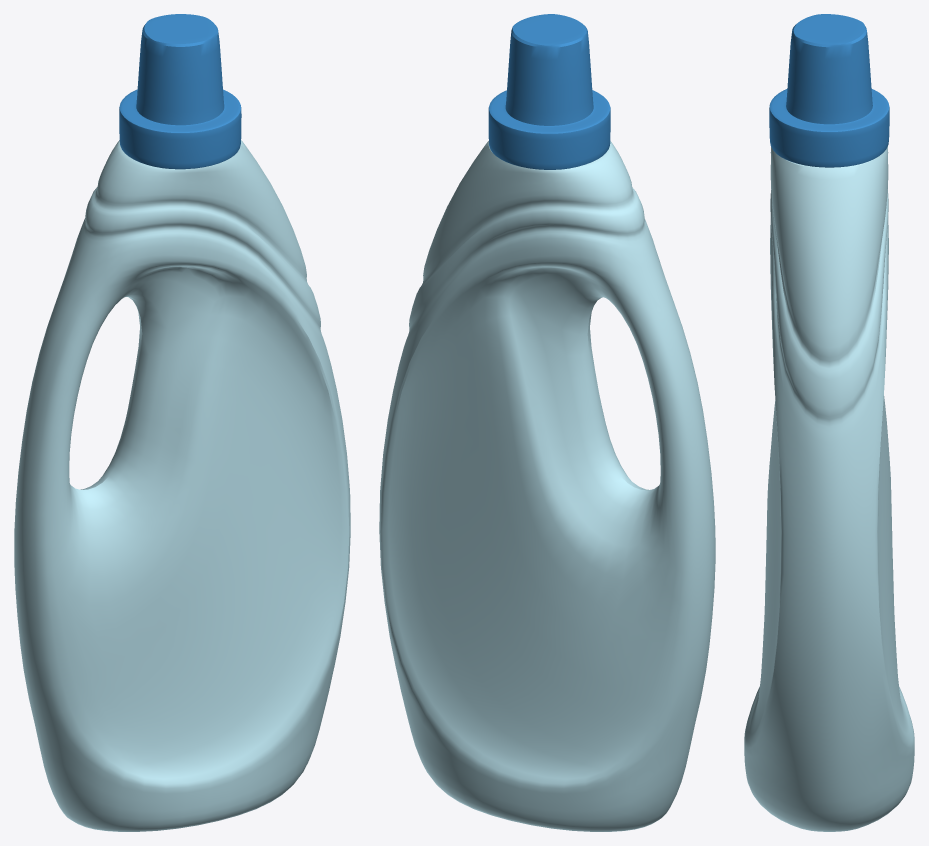
Rendered from detersivo_3.fbx.
3 views of the same model, side by side, from view 1: azimuth 30°, elevation 25°; view 2: azimuth 150°, elevation 25°; view 3: azimuth 270°, elevation 25° (orthographic).
Visible parts, largest first — view 1: detersivo_3; view 2: detersivo_3; view 3: detersivo_3.
Part boxes in pixels (x1,y1,x2,y2): detersivo_3: [14, 14, 350, 831]; detersivo_3: [379, 14, 715, 831]; detersivo_3: [744, 14, 914, 831].
Bounding box in the file's own units: 14.12 × 32.21 × 6.6.
